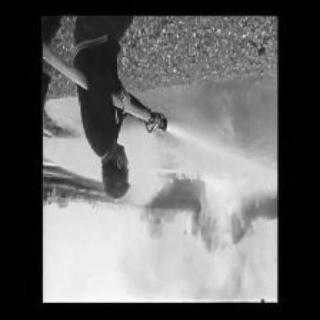Fire: (178, 170, 258, 252)
